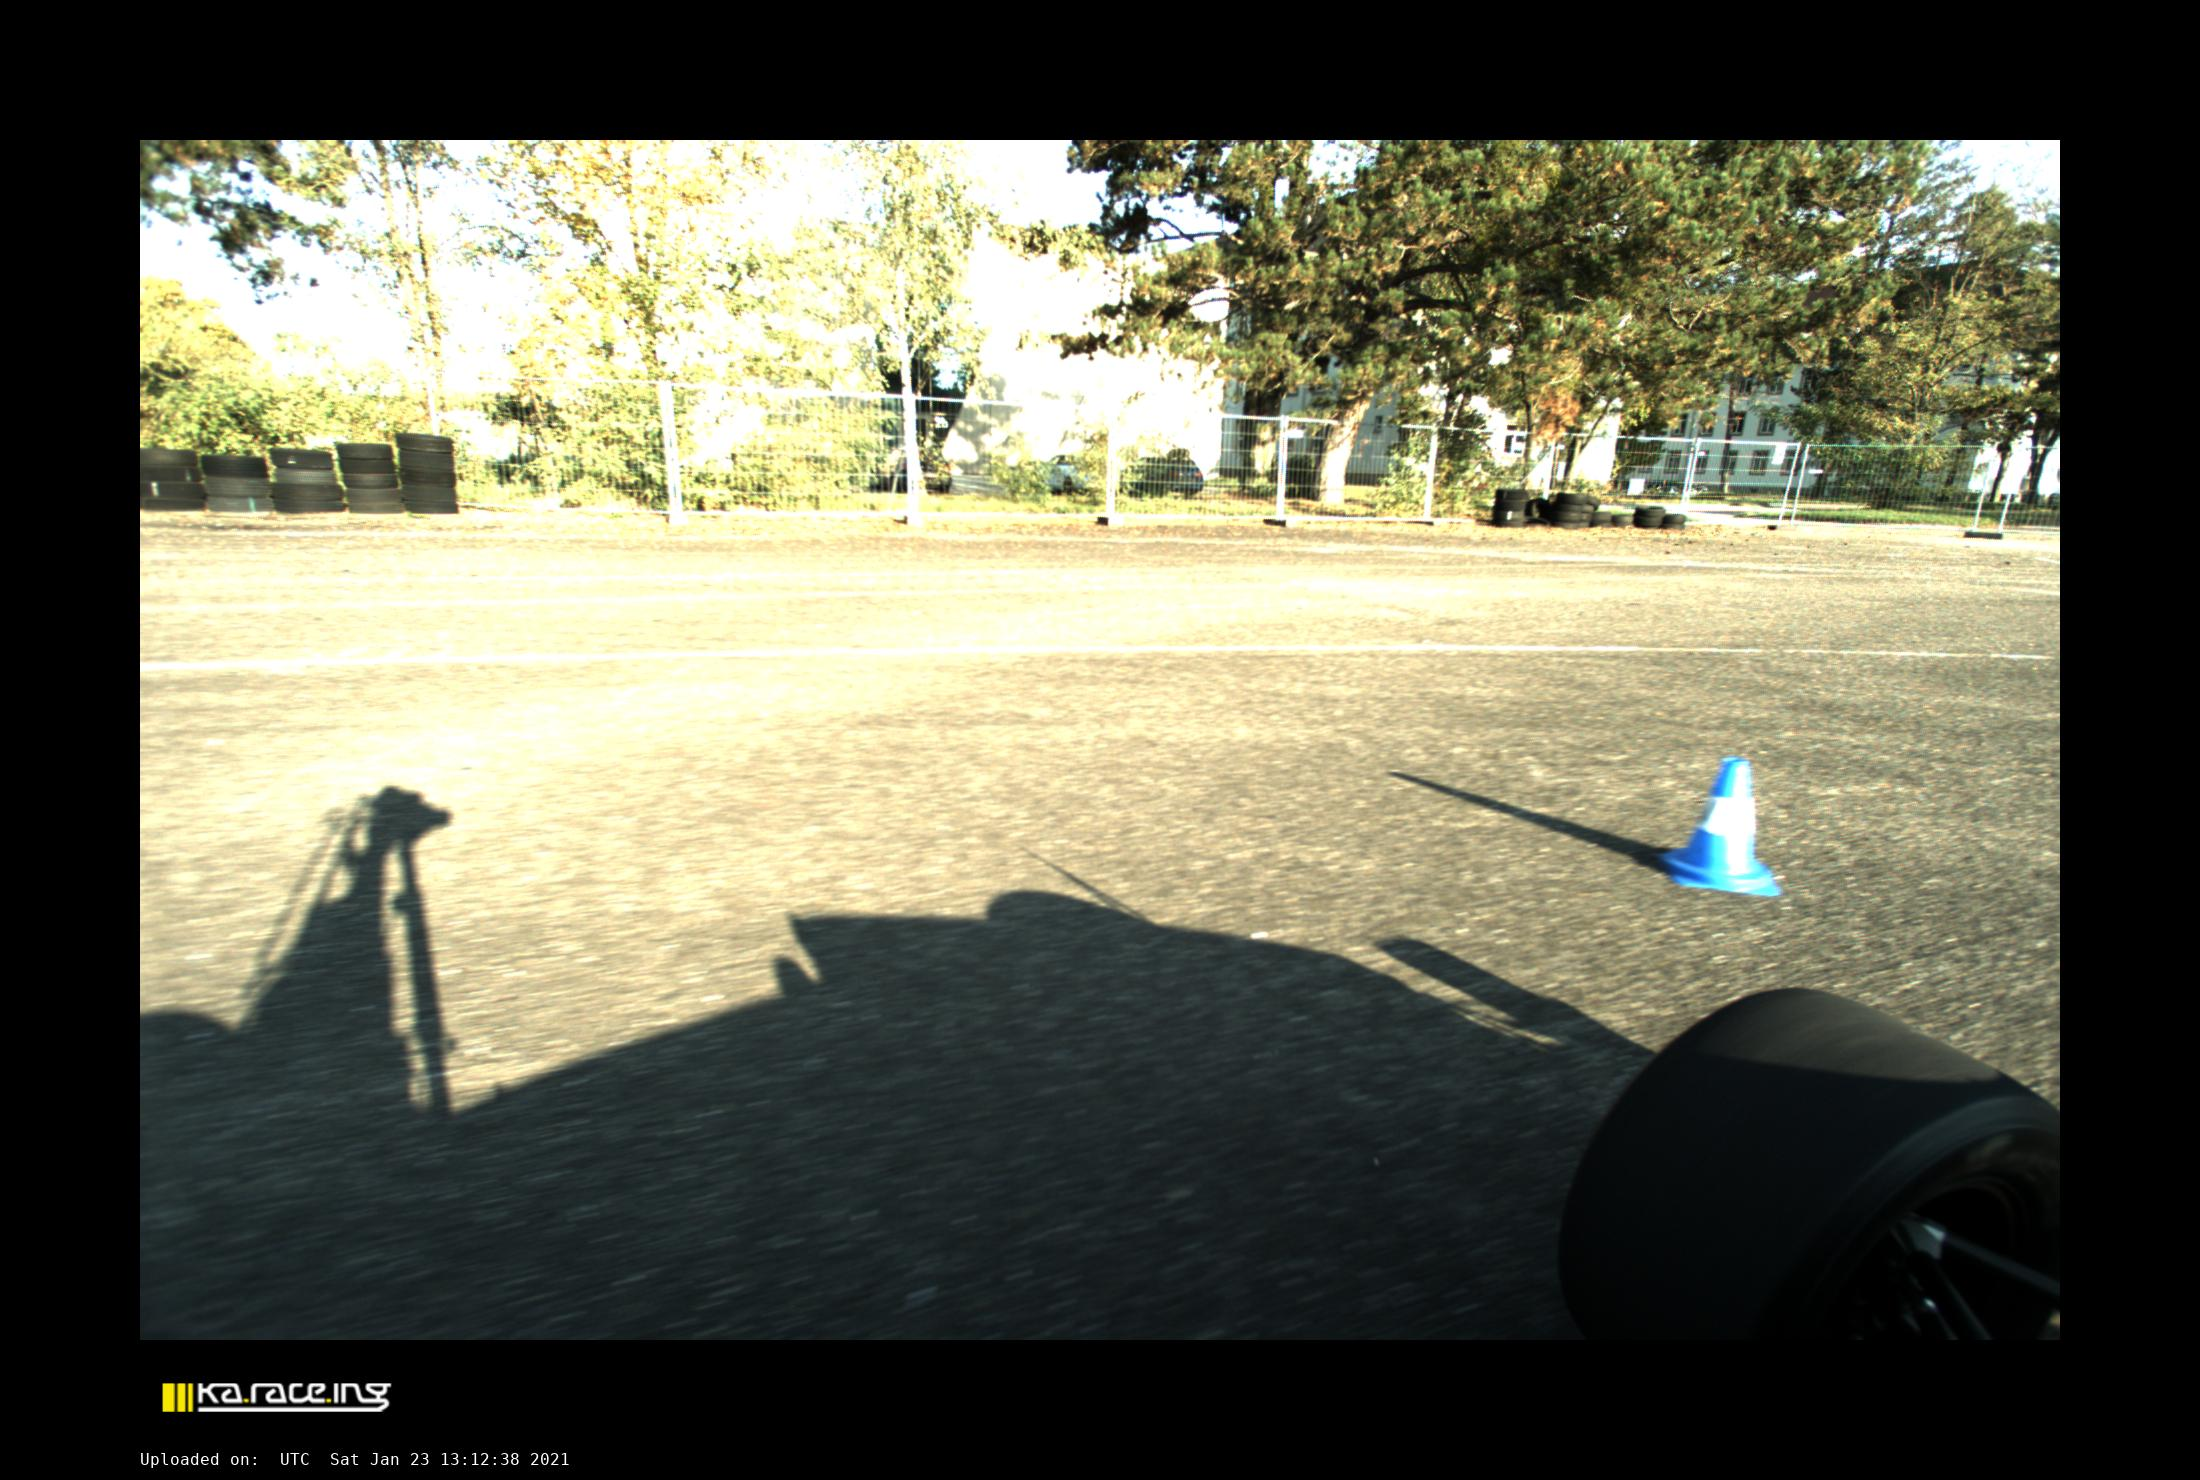blue_cone: (1657, 760, 1779, 895)
